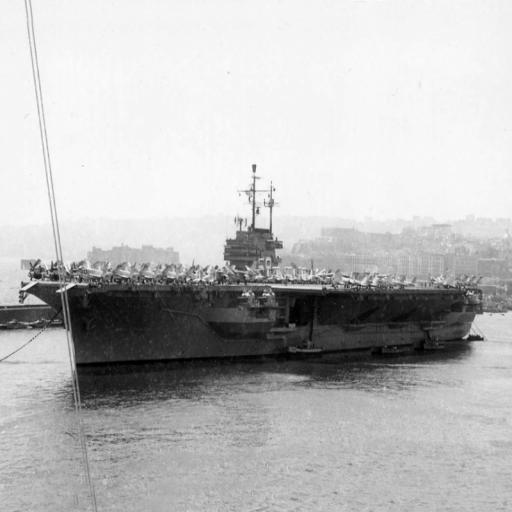Portanaves: (14, 158, 489, 381)
